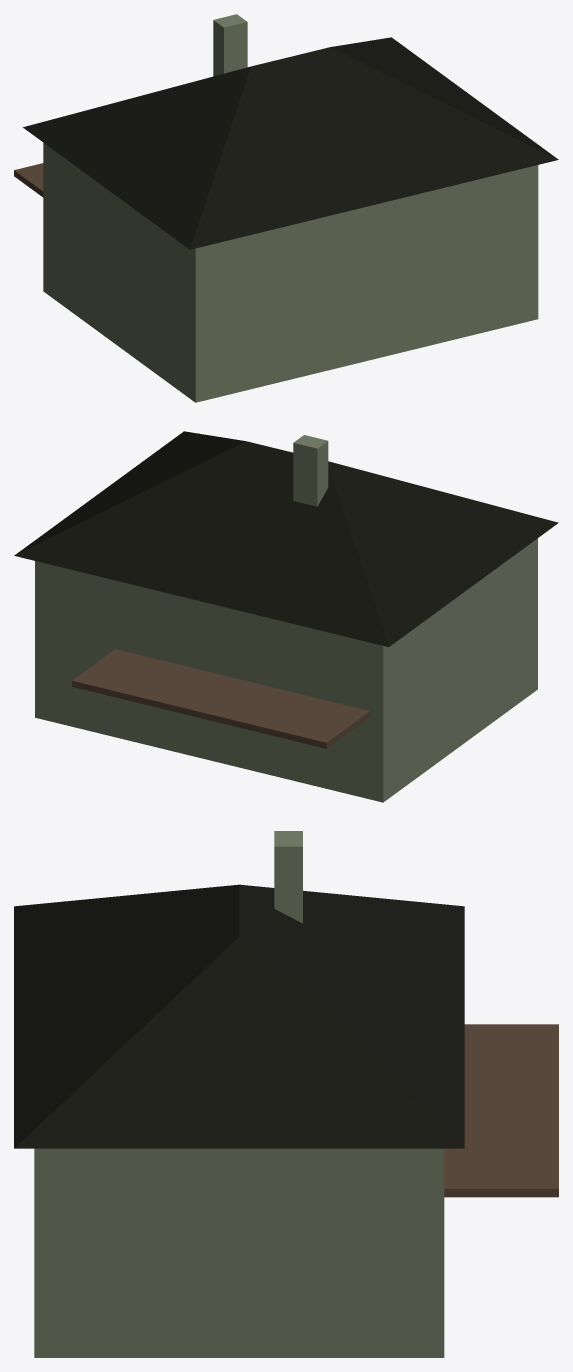
The model's file is ns-fourplex.towns-v1.lod2.glb.
3 renders of one model, top to bottom at view 1: azimuth 30°, elevation 25°; view 2: azimuth 150°, elevation 25°; view 3: azimuth 270°, elevation 25°, orthographic. The views are drawn at different scales.
Parts seen in each view (by area): view 1: ns-fourplex; view 2: ns-fourplex; view 3: ns-fourplex.
Boxes of the visible parts, left/top/right/bottom form: ns-fourplex: left=14, top=14, right=558, bottom=402; ns-fourplex: left=14, top=431, right=558, bottom=802; ns-fourplex: left=14, top=831, right=558, bottom=1357.
Size of the model in its own units: 14 by 10.2 by 13.3.
